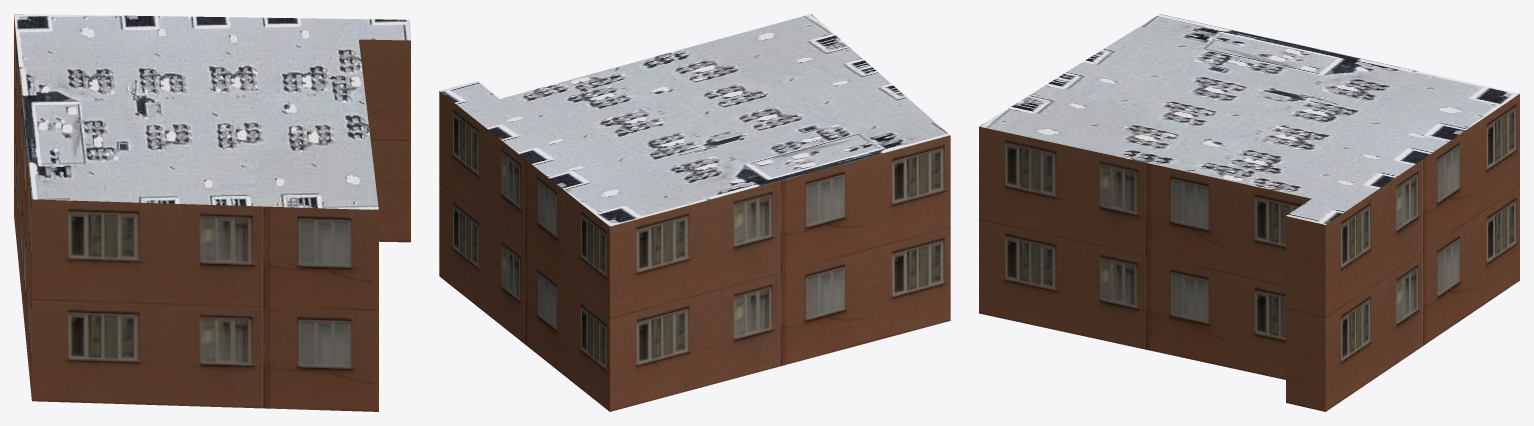
Rendered from ResTex__735.fbx.
3 views of the same model, side by side, from view 1: azimuth 30°, elevation 25°; view 2: azimuth 150°, elevation 25°; view 3: azimuth 270°, elevation 25° (orthographic). The views are drawn at different scales.
Visible parts, largest first — view 1: CityEngineMaterial_20_m, CityEngineMaterial_m; view 2: CityEngineMaterial_20_m, CityEngineMaterial_m; view 3: CityEngineMaterial_20_m, CityEngineMaterial_m.
Boxes of the visible parts, <box> form: CityEngineMaterial_20_m: <box>14,16,410,411</box>; CityEngineMaterial_m: <box>14,14,410,209</box>; CityEngineMaterial_20_m: <box>439,91,950,411</box>; CityEngineMaterial_m: <box>440,14,950,226</box>; CityEngineMaterial_20_m: <box>979,94,1519,411</box>; CityEngineMaterial_m: <box>979,14,1519,224</box>.
Bounding box in the file's own units: 14.53 × 6 × 15.74.
Materials: 2 (2 with a texture image).
